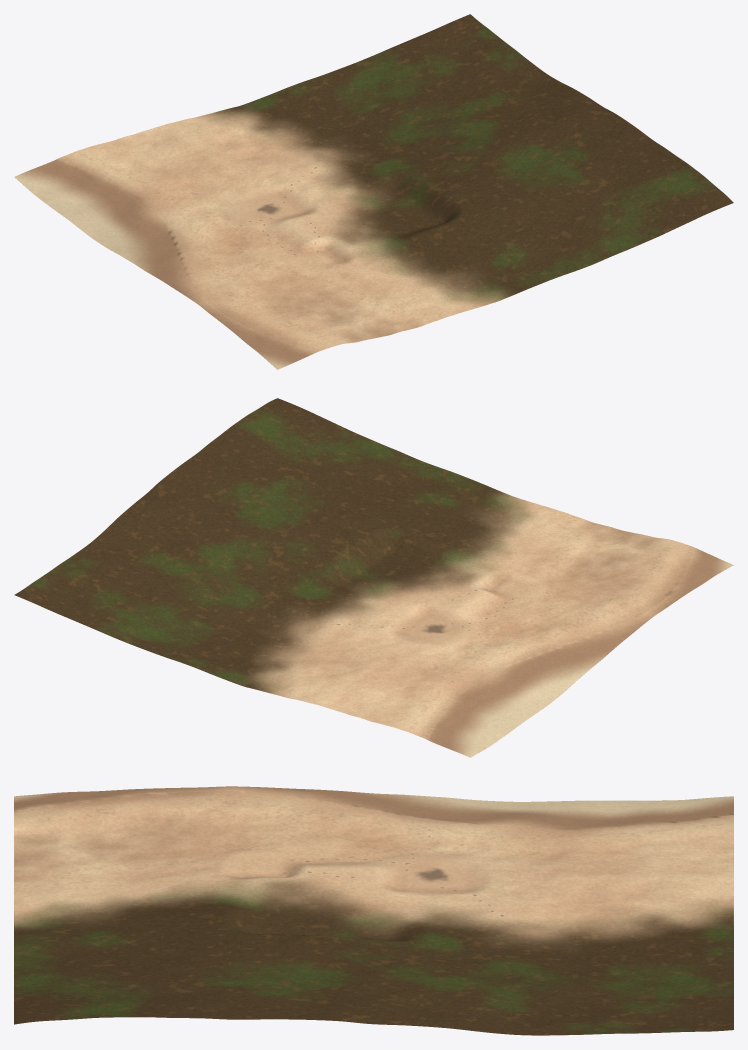
Rendered from IO_Terrain_Beach_Test_30m.glb.
3 views of the same model, one above another, from view 1: azimuth 30°, elevation 25°; view 2: azimuth 150°, elevation 25°; view 3: azimuth 270°, elevation 25° (orthographic). The views are drawn at different scales.
Parts seen in each view (by area): view 1: IO_Terrain_Beach_Test_30m; view 2: IO_Terrain_Beach_Test_30m; view 3: IO_Terrain_Beach_Test_30m.
Boxes of the visible parts, left/top/right/bottom form: IO_Terrain_Beach_Test_30m: left=14, top=14, right=733, bottom=369; IO_Terrain_Beach_Test_30m: left=14, top=398, right=733, bottom=757; IO_Terrain_Beach_Test_30m: left=14, top=786, right=733, bottom=1035.
Bounding box in the file's own units: 30 × 4.09 × 30.
1 material, 1 textured.
